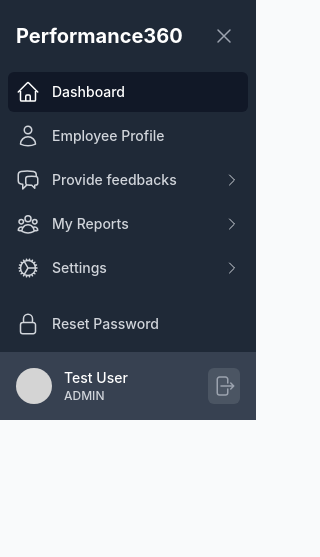
Sidebar › should expand Provide feedbacks section when clicked
Click the button "Provide feedbacks".
click(128, 180)  # box [8,160,248,200]
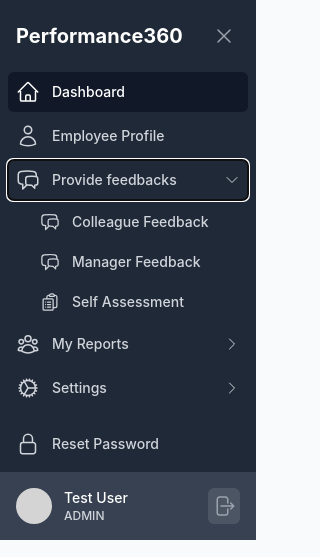
Check: the link "Colleague Feedback" is shown, box [40,212,209,232]
Check: the link "Manager Feedback" is shown, box [40,252,201,272]
Check: the link "Self Assessment" is shown, box [40,292,184,312]
